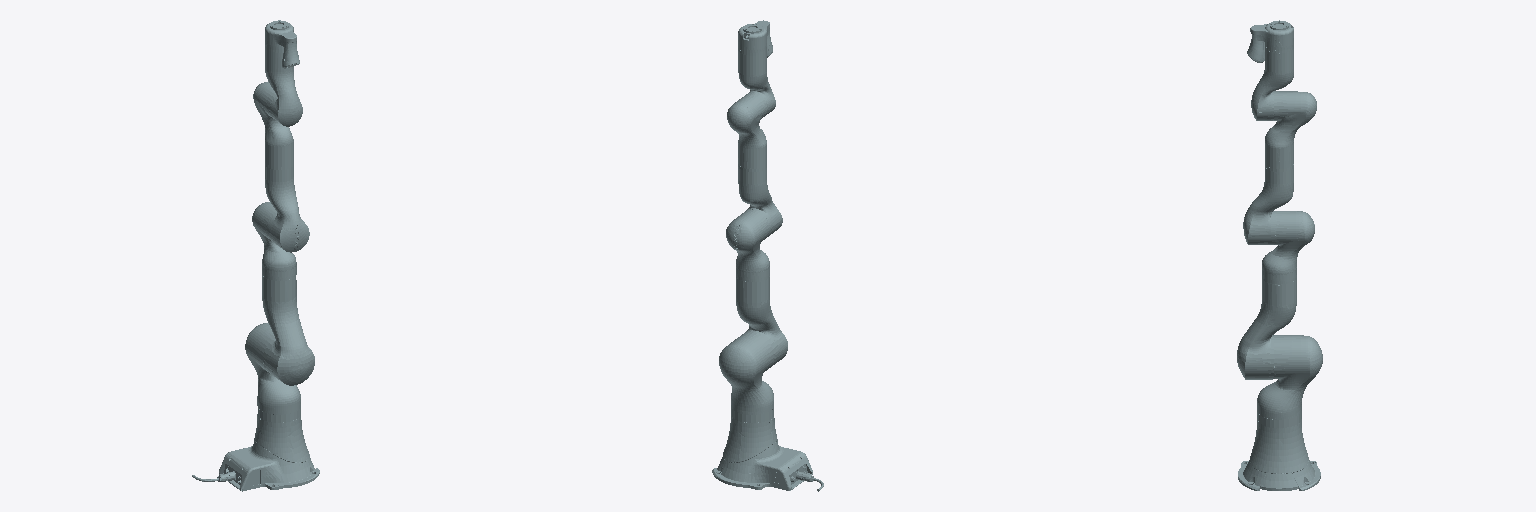
robot.urdf — XME7:
<robot name="XME7">
    <link name="base_link">
        <inertial>
            <origin xyz="0.0218436668217748 0.0163699016708871 0.0336311683087049" rpy="0 0 0" />
            <mass value="5.27506583792117" />
            <inertia ixx="0" ixy="0" ixz="0" iyy="0" iyz="0" izz="0" />
        </inertial>
        <visual>
            <origin xyz="0 0 0" rpy="0 0 0" />
            <geometry>
                <mesh filename="package://XME7/meshes/base_link.STL" />
            </geometry>
            <material name="">
                <color rgba="0.592156862745098 0.666666666666667 0.682352941176471 1" />
            </material>
        </visual>
        <collision>
            <origin xyz="0 0 0" rpy="0 0 0" />
            <geometry>
                <mesh filename="package://XME7/meshes/base_link.STL" />
            </geometry>
        </collision>
    </link>
    <link name="link1">
        <inertial>
            <origin xyz="5.79402105674309E-06 -0.0307935710783682 0.141714967811122" rpy="0 0 0" />
            <mass value="3.69864967968703" />
            <inertia ixx="0" ixy="0" ixz="0" iyy="0" iyz="0" izz="0" />
        </inertial>
        <visual>
            <origin xyz="0 0 0" rpy="0 0 0" />
            <geometry>
                <mesh filename="package://XME7/meshes/link1.STL" />
            </geometry>
            <material name="">
                <color rgba="0.592156862745098 0.666666666666667 0.682352941176471 1" />
            </material>
        </visual>
        <collision>
            <origin xyz="0 0 0" rpy="0 0 0" />
            <geometry>
                <mesh filename="package://XME7/meshes/link1.STL" />
            </geometry>
        </collision>
    </link>
    <joint name="joint1" type="revolute">
        <origin xyz="0.040901 -0.033668 0.13818" rpy="-2.8368E-15 0 -3.14" />
        <parent link="base_link" />
        <child link="link1" />
        <axis xyz="0 0 1" />
        <limit lower="-2.9671" upper="2.9671" effort="0" velocity="0" />
    </joint>
    <link name="link2">
        <inertial>
            <origin xyz="4.23738311908922E-06 0.200065991468864 -0.0155752111863818" rpy="0 0 0" />
            <mass value="4.95201979538989" />
            <inertia ixx="0.0992381087544826" ixy="1.08046092368961E-06" ixz="2.38967303712135E-07" iyy="0.00462803078466669" iyz="-0.0209250651677297" izz="0.094610077994494" />
        </inertial>
        <visual>
            <origin xyz="0 0 0" rpy="0 0 0" />
            <geometry>
                <mesh filename="package://XME7/meshes/link2.STL" />
            </geometry>
            <material name="">
                <color rgba="0.592156862745098 0.666666666666667 0.682352941176471 1" />
            </material>
        </visual>
        <collision>
            <origin xyz="0 0 0" rpy="0 0 0" />
            <geometry>
                <mesh filename="package://XME7/meshes/link2.STL" />
            </geometry>
        </collision>
    </link>
    <joint name="joint2" type="revolute">
        <origin xyz="0 0 0.207999999952273" rpy="1.5707963267949 0 0" />
        <parent link="link1" />
        <child link="link2" />
        <axis xyz="0 0 0.99999999999966" />
        <limit lower="-2.0943951023932" upper="2.0943951023932" effort="0" velocity="0" />
    </joint>
    <link name="link3">
        <inertial>
            <origin xyz="3.25348652711194E-06 0.0327880429508358 0.0757964191760764" rpy="0 0 0" />
            <mass value="1.79724502165651" />
            <inertia ixx="0" ixy="0" ixz="0" iyy="0" iyz="0" izz="0" />
        </inertial>
        <visual>
            <origin xyz="0 0 0" rpy="0 0 0" />
            <geometry>
                <mesh filename="package://XME7/meshes/link3.STL" />
            </geometry>
            <material name="">
                <color rgba="0.592156862745098 0.666666666666667 0.682352941176471 1" />
            </material>
        </visual>
        <collision>
            <origin xyz="0 0 0" rpy="0 0 0" />
            <geometry>
                <mesh filename="package://XME7/meshes/link3.STL" />
            </geometry>
        </collision>
    </link>
    <joint name="joint3" type="revolute">
        <origin xyz="0 0.437499909676678 0" rpy="-1.57079759282358 0 0" />
        <parent link="link2" />
        <child link="link3" />
        <axis xyz="0 -0.999999999998858 0" />
        <limit lower="-2.0943951023932" upper="2.0943951023932" effort="0" velocity="0" />
    </joint>
    <link name="link4">
        <inertial>
            <origin xyz="9.69897826796212E-06 -0.0230961404656154 0.13591016450192" rpy="0 0 0" />
            <mass value="1.71426245435884" />
            <inertia ixx="0" ixy="0" ixz="0" iyy="0" iyz="0" izz="0" />
        </inertial>
        <visual>
            <origin xyz="0 0 0" rpy="0 0 0" />
            <geometry>
                <mesh filename="package://XME7/meshes/link4.STL" />
            </geometry>
            <material name="">
                <color rgba="0.592156862745098 0.666666666666667 0.682352941176471 1" />
            </material>
        </visual>
        <collision>
            <origin xyz="0 0 0" rpy="0 0 0" />
            <geometry>
                <mesh filename="package://XME7/meshes/link4.STL" />
            </geometry>
        </collision>
    </link>
    <joint name="joint4" type="revolute">
        <origin xyz="0 0 0.20999999662933" rpy="0 0 0" />
        <parent link="link3" />
        <child link="link4" />
        <axis xyz="0 0 0.999999999998397" />
        <limit lower="-2.96705972839037" upper="2.96705972839037" effort="0" velocity="0" />
    </joint>
    <link name="link5">
        <inertial>
            <origin xyz="1.67277909225855E-05 0.0189580631840378 0.0947781921805828" rpy="0 0 0" />
            <mass value="1.29891490887537" />
            <inertia ixx="0" ixy="0" ixz="0" iyy="0" iyz="0" izz="0" />
        </inertial>
        <visual>
            <origin xyz="0 0 0" rpy="0 0 0" />
            <geometry>
                <mesh filename="package://XME7/meshes/link5.STL" />
            </geometry>
            <material name="">
                <color rgba="0.592156862745098 0.666666666666667 0.682352941176471 1" />
            </material>
        </visual>
        <collision>
            <origin xyz="0 0 0" rpy="0 0 0" />
            <geometry>
                <mesh filename="package://XME7/meshes/link5.STL" />
            </geometry>
        </collision>
    </link>
    <joint name="joint5" type="revolute">
        <origin xyz="0 0 0.202499820575684" rpy="0 0 0" />
        <parent link="link4" />
        <child link="link5" />
        <axis xyz="0 -0.999999999998397 0" />
        <limit lower="-2.0943951023932" upper="2.0943951023932" effort="0" velocity="0" />
    </joint>
    <link name="link6">
        <inertial>
            <origin xyz="4.41762519806932E-05 0.0209443148419796 0.0816293943338553" rpy="0 0 0" />
            <mass value="0.597615641843439" />
            <inertia ixx="0" ixy="0" ixz="0" iyy="0" iyz="0" izz="0" />
        </inertial>
        <visual>
            <origin xyz="0 0 0" rpy="0 0 0" />
            <geometry>
                <mesh filename="package://XME7/meshes/link6.STL" />
            </geometry>
            <material name="">
                <color rgba="0.592156862745098 0.666666666666667 0.682352941176471 1" />
            </material>
        </visual>
        <collision>
            <origin xyz="0 0 0" rpy="0 0 0" />
            <geometry>
                <mesh filename="package://XME7/meshes/link6.STL" />
            </geometry>
        </collision>
    </link>
    <joint name="joint6" type="revolute">
        <origin xyz="0 0 0.147077572634105" rpy="0 0 0" />
        <parent link="link5" />
        <child link="link6" />
        <axis xyz="0 0 0.999999999998397" />
        <limit lower="-3.1415926535898" upper="3.1415926535898" effort="0" velocity="0" />
    </joint>
    <transmission name="trans_joint1">
        <type>transmission_interface/SimpleTransmission</type>
        <joint name="joint1">
            <hardwareInterface>hardware_interface/PositionJointInterface</hardwareInterface>
        </joint>
        <actuator name="joint1_motor">
            <hardwareInterface>hardware_interface/PositionJointInterface</hardwareInterface>
            <mechanicalReduction>1</mechanicalReduction>
        </actuator>
    </transmission>
    <transmission name="trans_joint2">
        <type>transmission_interface/SimpleTransmission</type>
        <joint name="joint2">
            <hardwareInterface>hardware_interface/PositionJointInterface</hardwareInterface>
        </joint>
        <actuator name="joint2_motor">
            <hardwareInterface>hardware_interface/PositionJointInterface</hardwareInterface>
            <mechanicalReduction>1</mechanicalReduction>
        </actuator>
    </transmission>
    <transmission name="trans_joint3">
        <type>transmission_interface/SimpleTransmission</type>
        <joint name="joint3">
            <hardwareInterface>hardware_interface/PositionJointInterface</hardwareInterface>
        </joint>
        <actuator name="joint3_motor">
            <hardwareInterface>hardware_interface/PositionJointInterface</hardwareInterface>
            <mechanicalReduction>1</mechanicalReduction>
        </actuator>
    </transmission>
    <transmission name="trans_joint4">
        <type>transmission_interface/SimpleTransmission</type>
        <joint name="joint4">
            <hardwareInterface>hardware_interface/PositionJointInterface</hardwareInterface>
        </joint>
        <actuator name="joint4_motor">
            <hardwareInterface>hardware_interface/PositionJointInterface</hardwareInterface>
            <mechanicalReduction>1</mechanicalReduction>
        </actuator>
    </transmission>
    <transmission name="trans_joint5">
        <type>transmission_interface/SimpleTransmission</type>
        <joint name="joint5">
            <hardwareInterface>hardware_interface/PositionJointInterface</hardwareInterface>
        </joint>
        <actuator name="joint5_motor">
            <hardwareInterface>hardware_interface/PositionJointInterface</hardwareInterface>
            <mechanicalReduction>1</mechanicalReduction>
        </actuator>
    </transmission>
    <transmission name="trans_joint6">
        <type>transmission_interface/SimpleTransmission</type>
        <joint name="joint6">
            <hardwareInterface>hardware_interface/PositionJointInterface</hardwareInterface>
        </joint>
        <actuator name="joint6_motor">
            <hardwareInterface>hardware_interface/PositionJointInterface</hardwareInterface>
            <mechanicalReduction>1</mechanicalReduction>
        </actuator>
    </transmission>
    <gazebo>
        <plugin name="gazebo_ros_control" filename="libgazebo_ros_control.so">
            <robotNamespace>/</robotNamespace>
        </plugin>
    </gazebo>
</robot>

--- Facts derived from the render (not from the file) ---
The picture shows the robot from 3 angles, left to right: view 1: azimuth 30°, elevation 25°; view 2: azimuth 150°, elevation 25°; view 3: azimuth 270°, elevation 25°; orthographic projection.
Model XME7 with 7 links and 6 joints (6 revolute), rooted at base_link, posed all joints at 0.
Links seen in each view (by area): view 1: link2, base_link, link1, link3, link4, link5, link6; view 2: base_link, link2, link1, link4, link3, link5, link6; view 3: link2, base_link, link1, link4, link3, link5, link6.
Link boxes in pixels (left/top/right/bottom): link2: left=252, top=202, right=314, bottom=385; base_link: left=192, top=414, right=319, bottom=491; link1: left=245, top=323, right=300, bottom=422; link3: left=265, top=165, right=309, bottom=252; link4: left=253, top=82, right=293, bottom=169; link5: left=265, top=48, right=302, bottom=126; link6: left=265, top=20, right=299, bottom=68; base_link: left=712, top=416, right=823, bottom=491; link2: left=726, top=210, right=787, bottom=367; link1: left=719, top=332, right=773, bottom=422; link4: left=727, top=92, right=767, bottom=171; link3: left=738, top=167, right=782, bottom=236; link5: left=738, top=51, right=775, bottom=114; link6: left=738, top=20, right=772, bottom=57; link2: left=1237, top=211, right=1314, bottom=379; base_link: left=1238, top=419, right=1320, bottom=490; link1: left=1257, top=335, right=1322, bottom=427; link4: left=1265, top=91, right=1316, bottom=171; link3: left=1243, top=168, right=1293, bottom=244; link5: left=1251, top=49, right=1293, bottom=120; link6: left=1247, top=20, right=1293, bottom=62.
Bounding box of the posed robot: 0.3844 × 0.2642 × 1.53 m (x, y, z).
Meshes: 7 distinct files referenced, 7 mesh visuals loaded (7 binary STL).